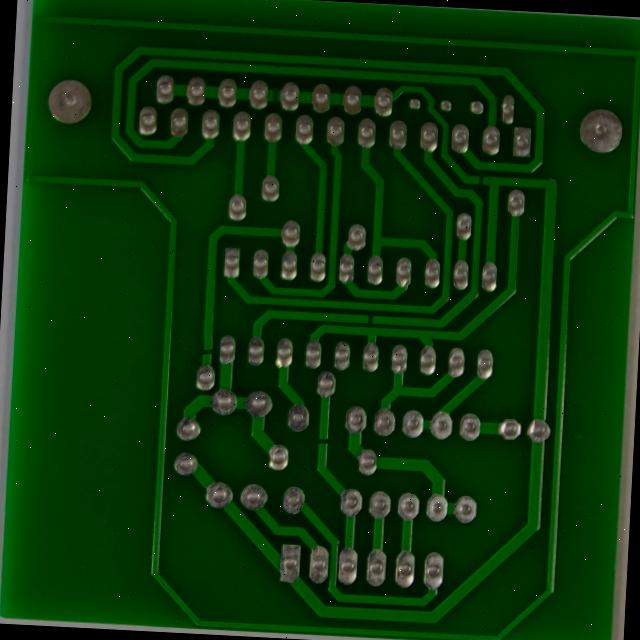open_circuit: (259, 72, 279, 98), (190, 337, 212, 355), (310, 428, 329, 445), (471, 162, 487, 180), (359, 306, 376, 322)
